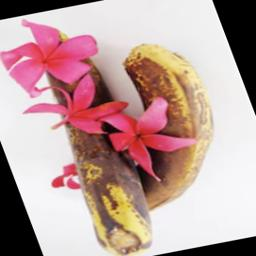Banana Semirotten: (121, 40, 222, 237)
